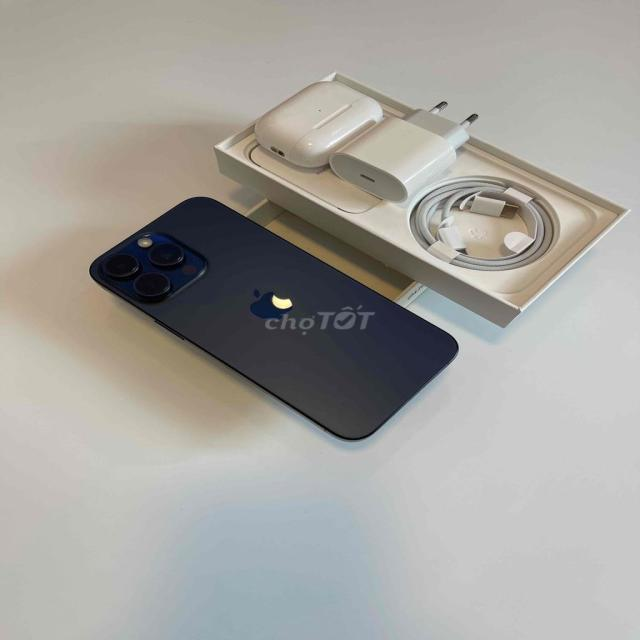gen_15: (67, 189, 477, 445)
